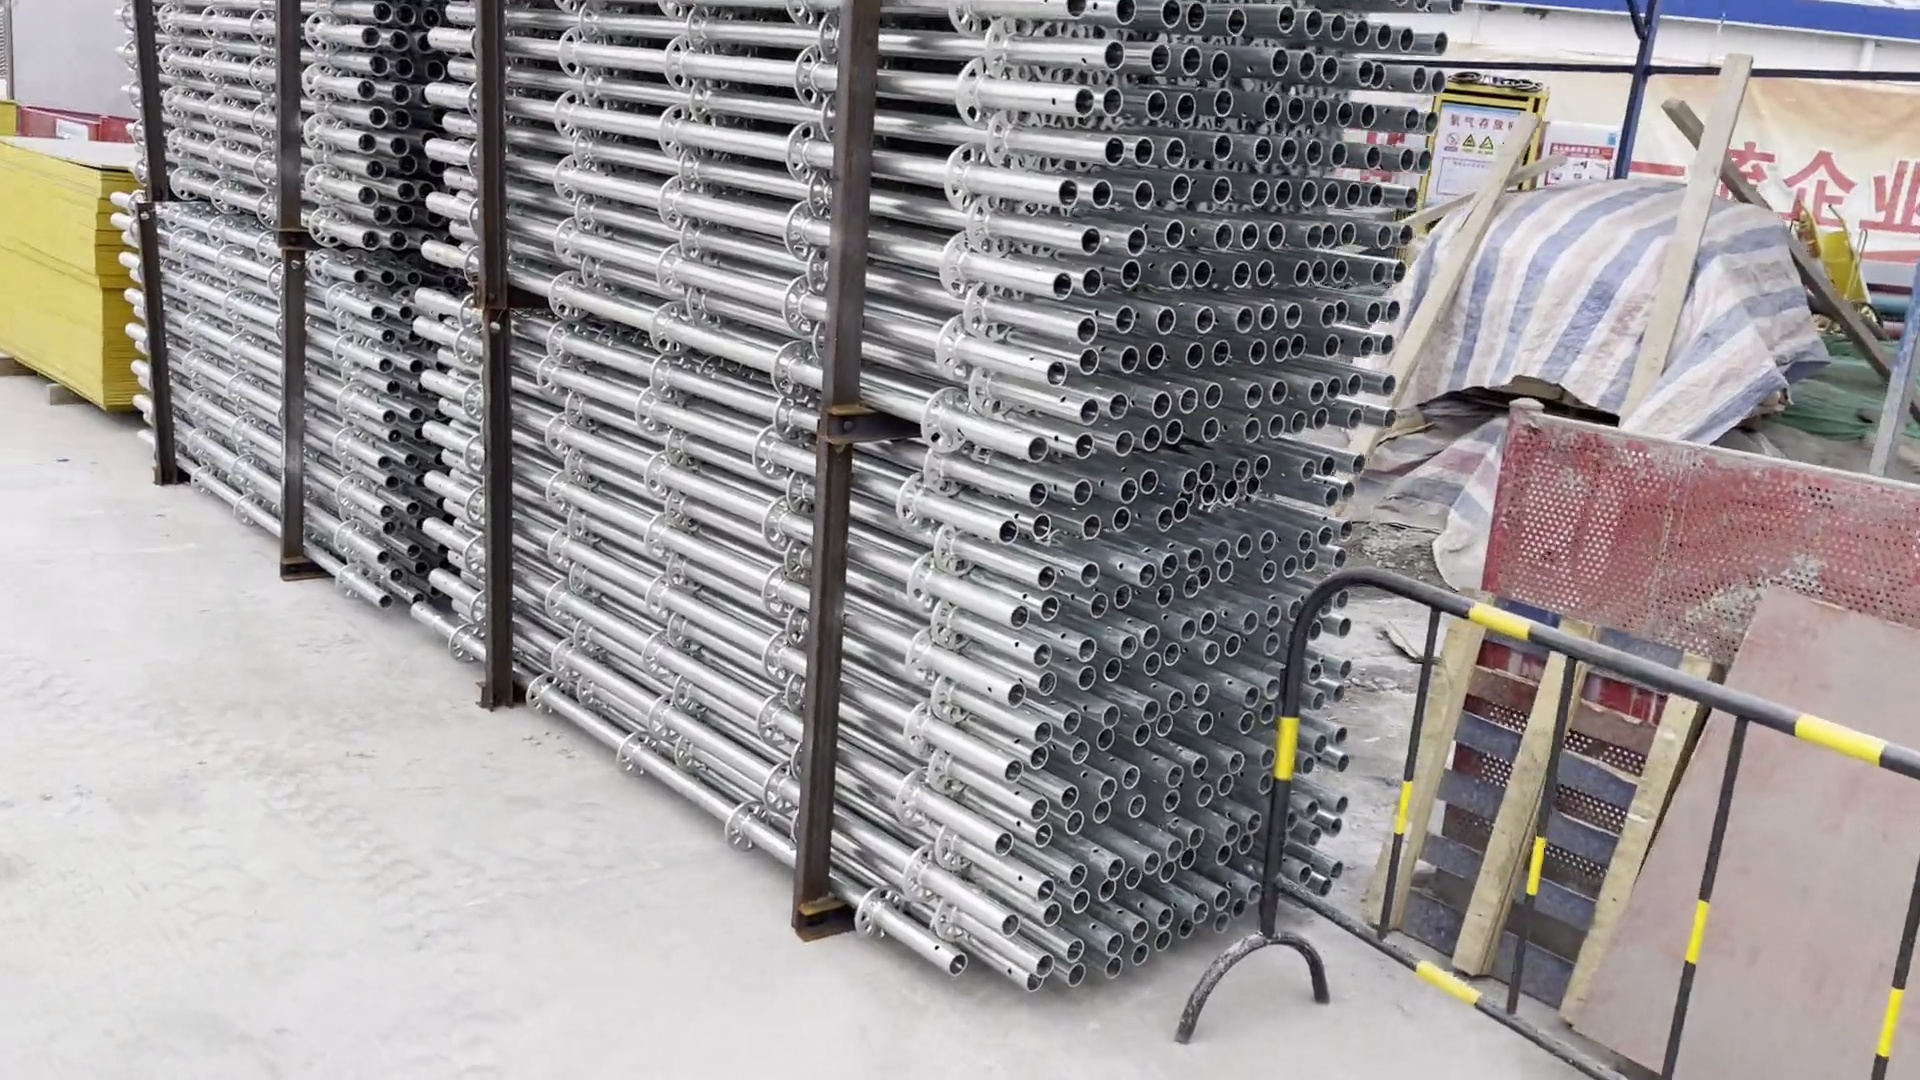board: (1, 123, 156, 425)
scaffold: (400, 1, 1433, 996), (144, 1, 392, 597)
